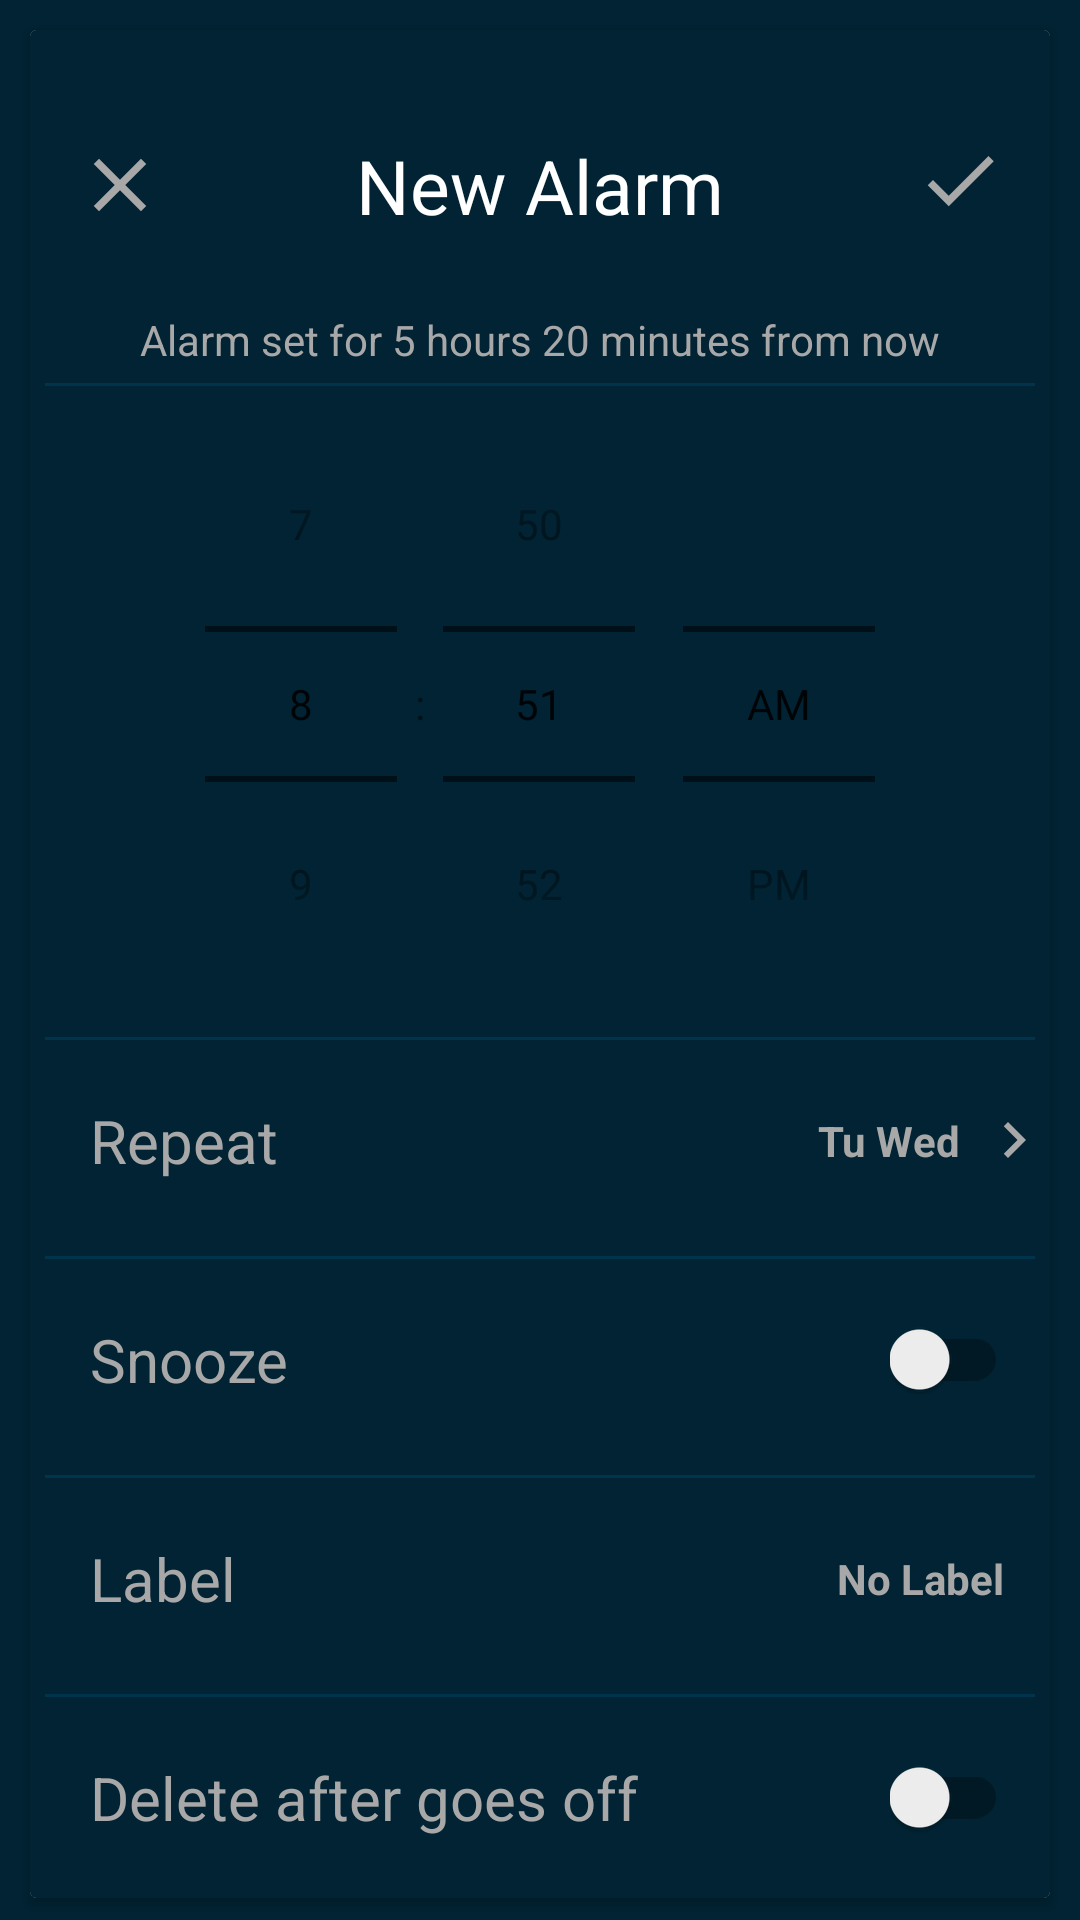

Where icons sit on this 1080x1920 app screen, as (left=x1, top=y1, right=x2, bottom=y2):
chevron right: (left=1004, top=1122, right=1026, bottom=1158)
close: (left=94, top=159, right=146, bottom=211)
done: (left=928, top=156, right=994, bottom=206)
